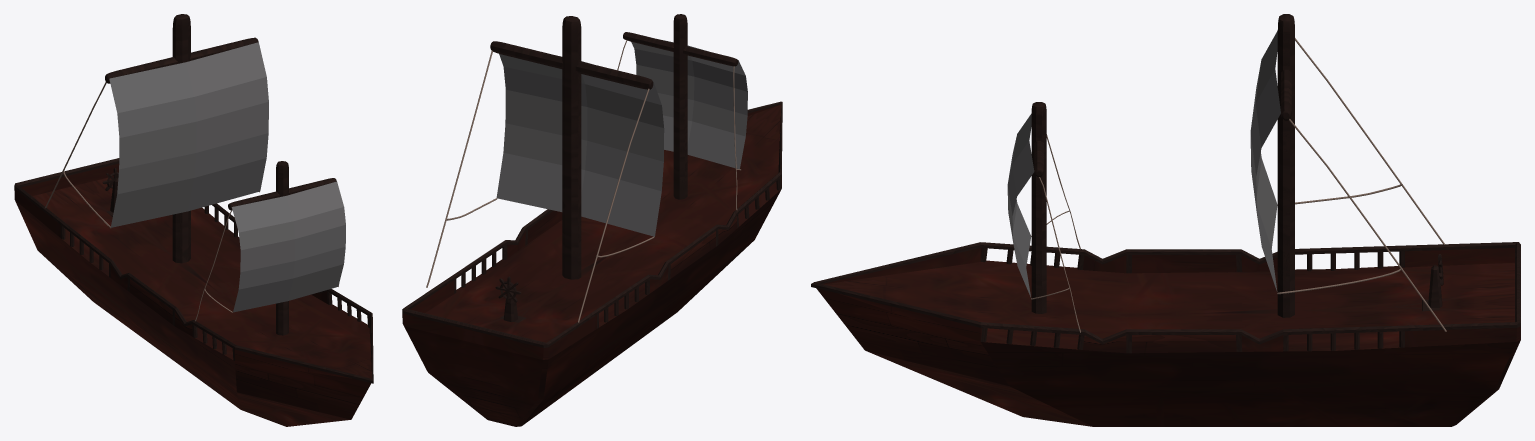
Rendered from Brig.fbx.
The picture shows the model from 3 angles, left to right: view 1: azimuth 30°, elevation 25°; view 2: azimuth 150°, elevation 25°; view 3: azimuth 270°, elevation 25°; orthographic projection. The views are drawn at different scales.
Parts seen in each view (by area): view 1: Wood2, Sail.001, Sail, Cube, Mast.001, Mast, Rope.001, Wheel; view 2: Wood2, Sail.001, Sail, Mast.001, Cube, Mast, Rope.001, Wheel; view 3: Wood2, Cube, Mast.001, Sail.001, Mast, Sail, Rope.001, Wheel.
Boxes of the visible parts, left/top/right/bottom form: Wood2: left=14, top=163, right=372, bottom=426; Sail.001: left=109, top=42, right=268, bottom=227; Sail: left=231, top=181, right=345, bottom=312; Cube: left=14, top=158, right=373, bottom=383; Mast.001: left=105, top=14, right=258, bottom=263; Mast: left=228, top=161, right=336, bottom=335; Rope.001: left=45, top=82, right=259, bottom=228; Wheel: left=102, top=168, right=118, bottom=216; Wood2: left=402, top=104, right=781, bottom=426; Sail.001: left=496, top=54, right=664, bottom=236; Sail: left=631, top=40, right=747, bottom=168; Mast.001: left=490, top=16, right=653, bottom=279; Cube: left=402, top=101, right=782, bottom=347; Mast: left=623, top=14, right=738, bottom=199; Rope.001: left=426, top=50, right=654, bottom=322; Wheel: left=495, top=276, right=526, bottom=322; Wood2: left=816, top=248, right=1520, bottom=426; Cube: left=811, top=242, right=1520, bottom=353; Mast.001: left=1277, top=14, right=1294, bottom=317; Sail.001: left=1250, top=31, right=1280, bottom=291; Mast: left=1031, top=102, right=1046, bottom=313; Sail: left=1007, top=113, right=1034, bottom=298; Rope.001: left=1277, top=38, right=1446, bottom=331; Wheel: left=1422, top=254, right=1443, bottom=311.
Size of the model in its own units: 900 by 1880 by 3005.
